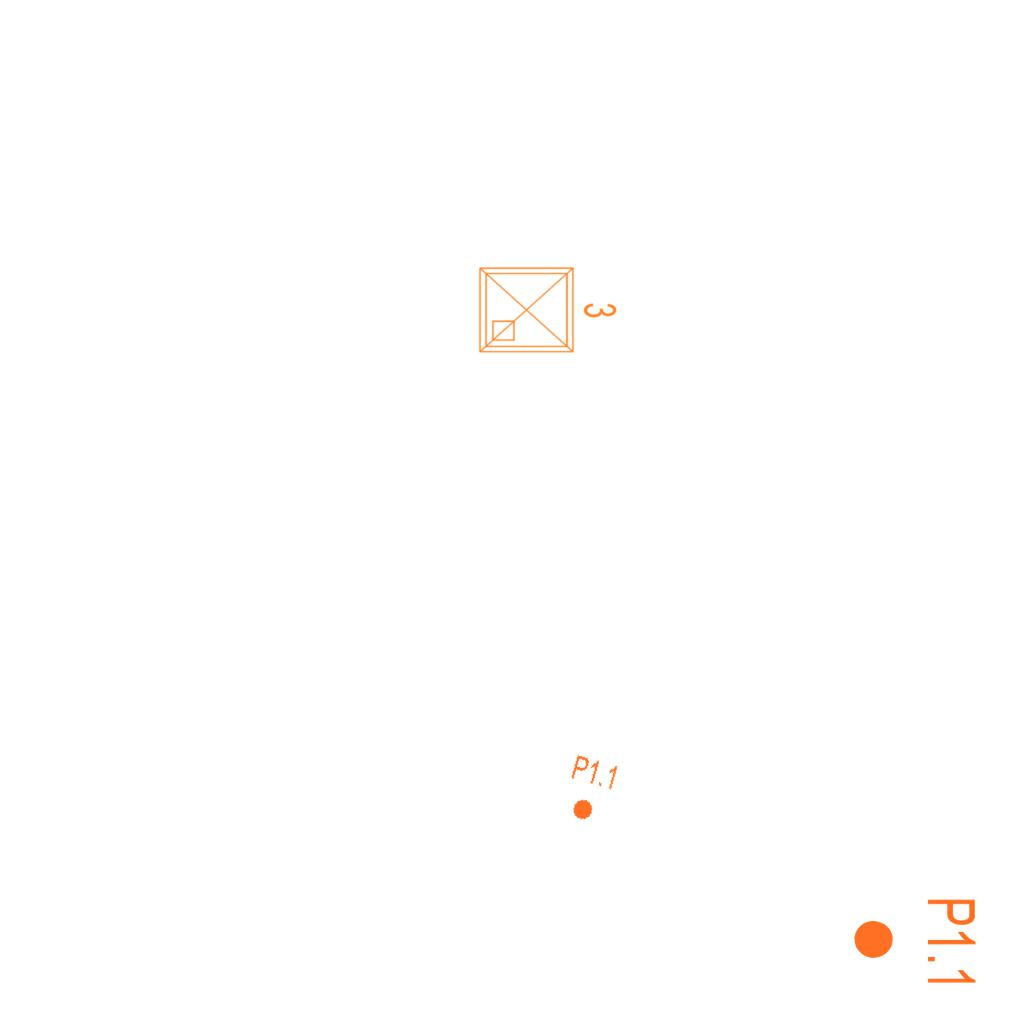Downlight_LED_Einbauleuchten_Flur: (851, 896, 979, 989), (559, 752, 621, 828)
Einbaudownlights_LED_Konferenzraeume: (472, 256, 622, 360)
